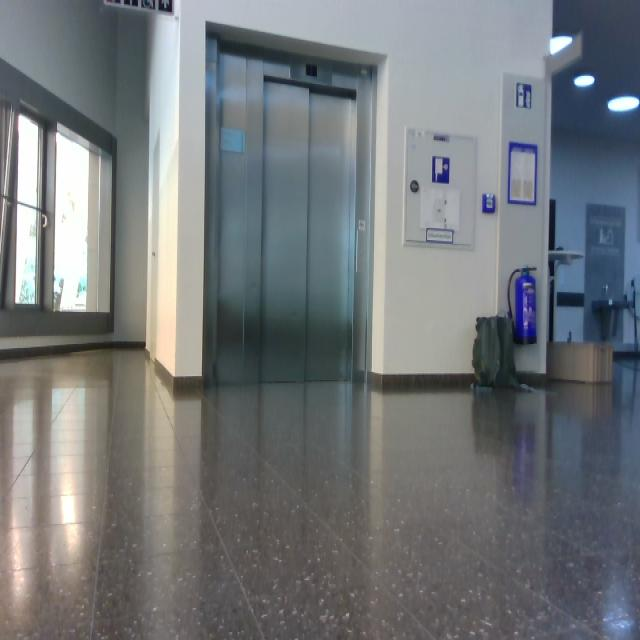door: (205, 37, 377, 386), (260, 76, 357, 384)
fire extinguisher: (508, 266, 538, 345)
light bulb: (607, 94, 640, 113), (549, 34, 573, 56), (574, 73, 595, 88)
tiled floor: (2, 345, 639, 638)
window: (1, 97, 116, 334)
